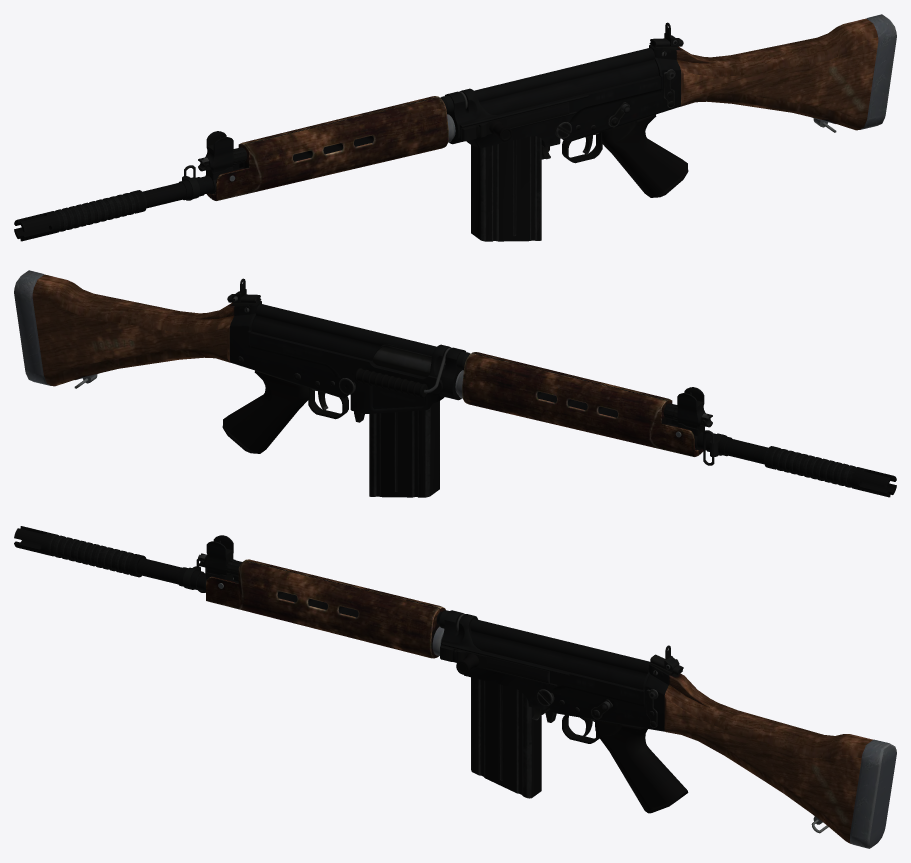
Rendered from fn_fal.glb.
3 renders of one model, top to bottom at view 1: azimuth 30°, elevation 25°; view 2: azimuth 150°, elevation 25°; view 3: azimuth 330°, elevation 25°, orthographic.
Parts seen in each view (by area): view 1: defaultMaterial (×5); view 2: defaultMaterial (×5); view 3: defaultMaterial (×5).
Boxes of the visible parts, x1,y1,x2,y2 form: defaultMaterial (×5): [14, 14, 896, 241]; defaultMaterial (×5): [14, 270, 896, 497]; defaultMaterial (×5): [14, 526, 896, 848].
Bounding box in the file's own units: 2.09 × 0.4157 × 0.1676.
5 materials, 5 textured.
